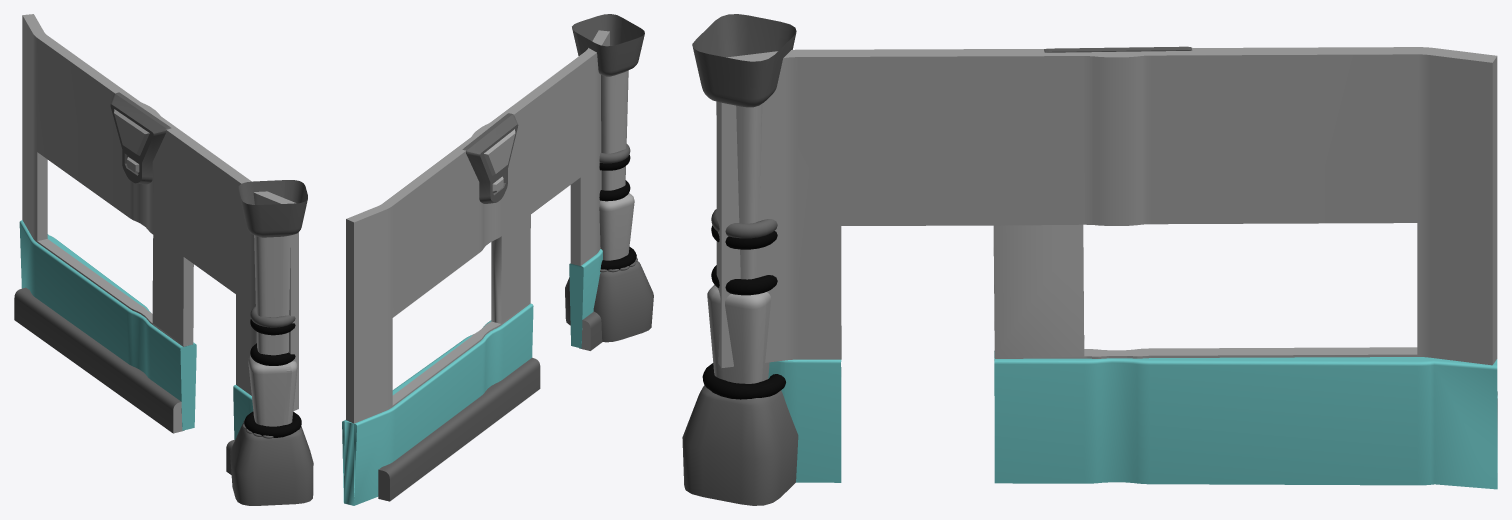
File: wall_petite_piece (1).fbx
The picture shows the model from 3 angles, left to right: view 1: azimuth 30°, elevation 25°; view 2: azimuth 150°, elevation 25°; view 3: azimuth 270°, elevation 25°; orthographic projection. The views are drawn at different scales.
Visible parts, largest first — view 1: Object020, Object021, Object023, Object018, Box071, Object019; view 2: Object020, Object023, Object021, Object018, Box071, Object019; view 3: Object020, Object023, Object021.
Boxes of the visible parts, x1,y1,x2,y2 form: Object020: (22,14,298,411); Object021: (230,180,313,505); Object023: (19,220,253,439); Object018: (14,287,234,474); Box071: (110,92,171,184); Object019: (114,109,149,173); Object020: (346,30,609,423); Object023: (342,249,602,505); Object021: (565,14,653,342); Object018: (378,311,602,501); Box071: (462,113,518,203); Object019: (484,129,515,192); Object020: (716,47,1497,368); Object023: (768,351,1497,489); Object021: (682,14,798,505).
Bounding box in the file's own units: 10.34 × 37.75 × 62.98.
